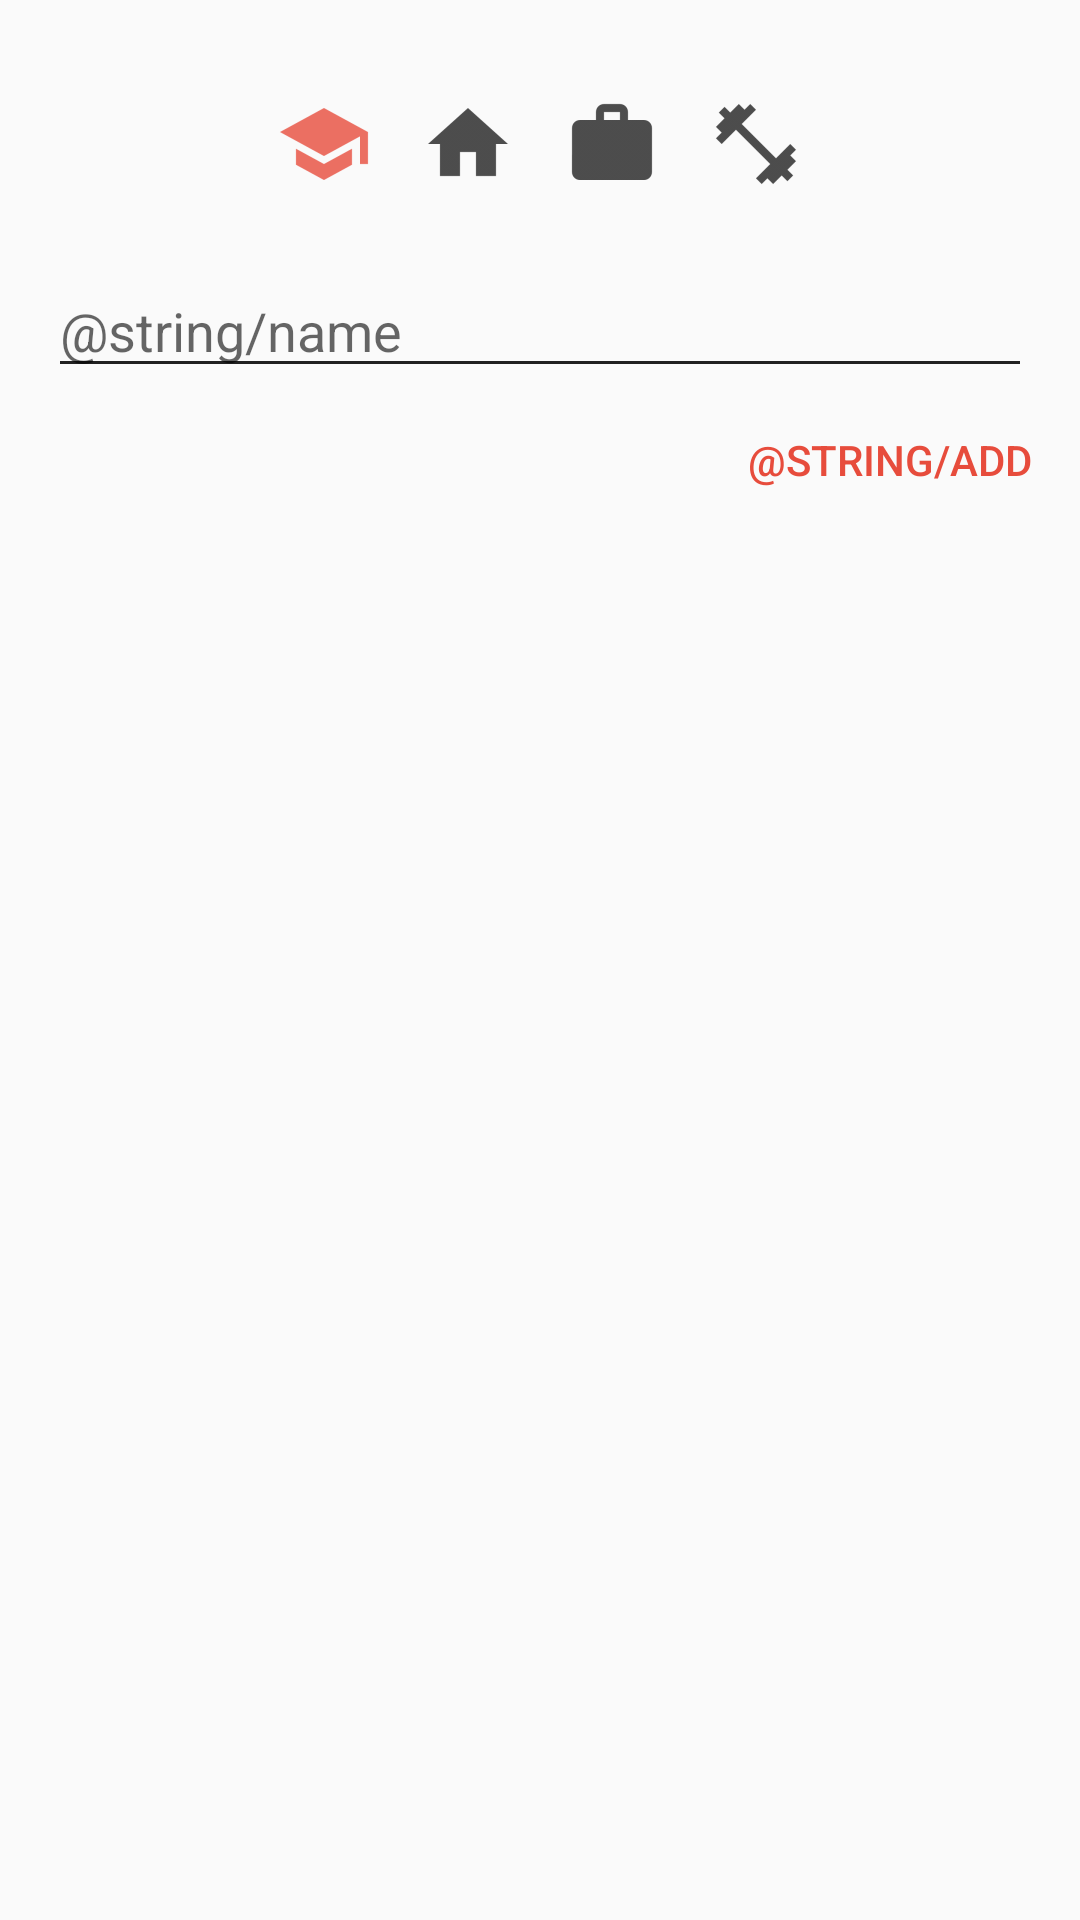

Screen size 1080w x 1920h. Icon name, then its box in pixels as {"left": x1, "top": y1, "right": x2, "bottom": y2}:
favorite gym: {"left": 716, "top": 104, "right": 796, "bottom": 184}
favorite home: {"left": 428, "top": 108, "right": 508, "bottom": 176}
favorite school: {"left": 280, "top": 108, "right": 368, "bottom": 180}
favorite work: {"left": 572, "top": 104, "right": 652, "bottom": 180}
